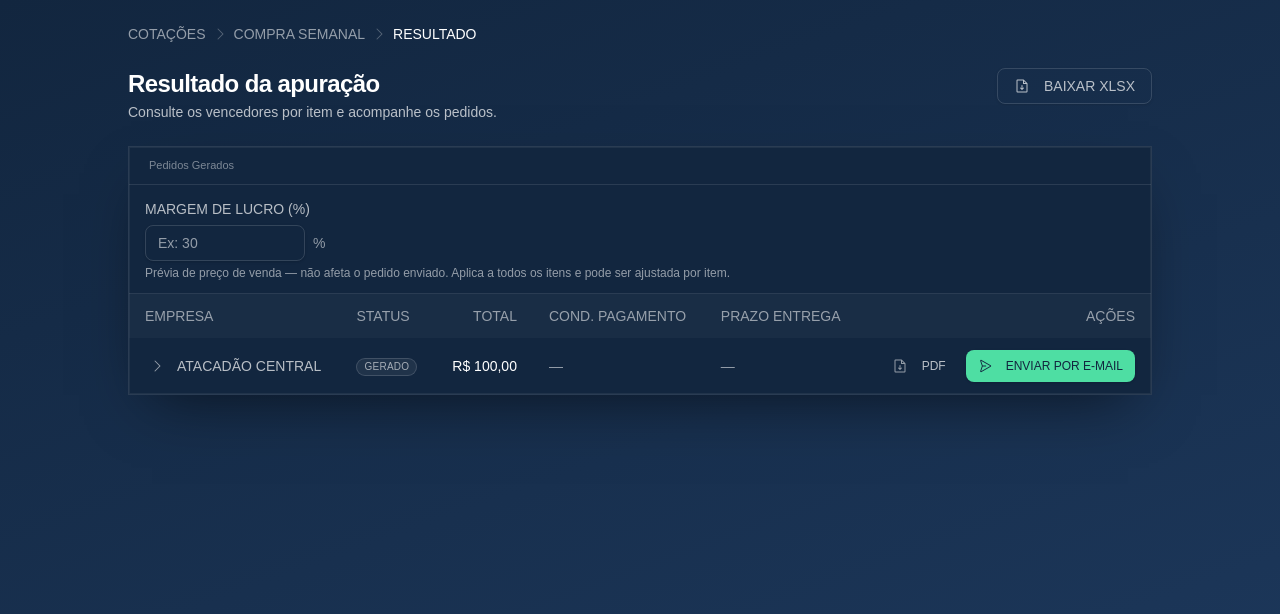
item com decididoPorDesempate false não renderiza o badge Empate
The image size is (1280, 614).
Expected: the text "Atacadão Central" is shown, [145,354,324,378]
Click the button named "Expandir itens de Atacadão Central".
click(157, 366)  # box [145,354,169,378]
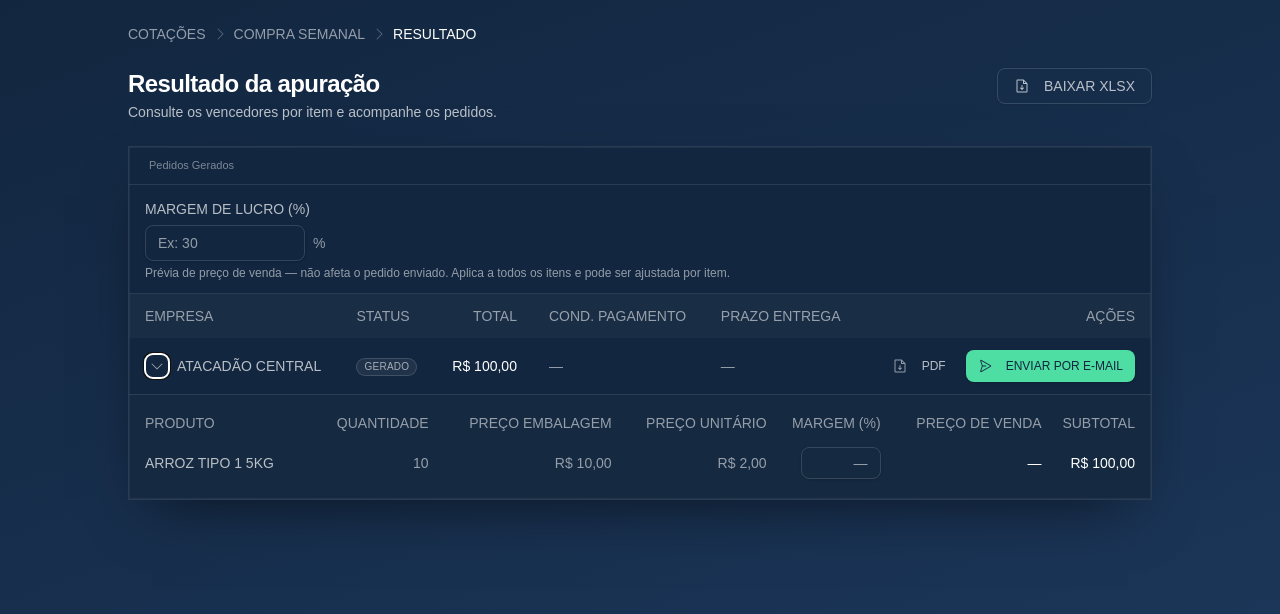
Expected: the text "Arroz Tipo 1 5kg" is shown, [145,438,311,486]
